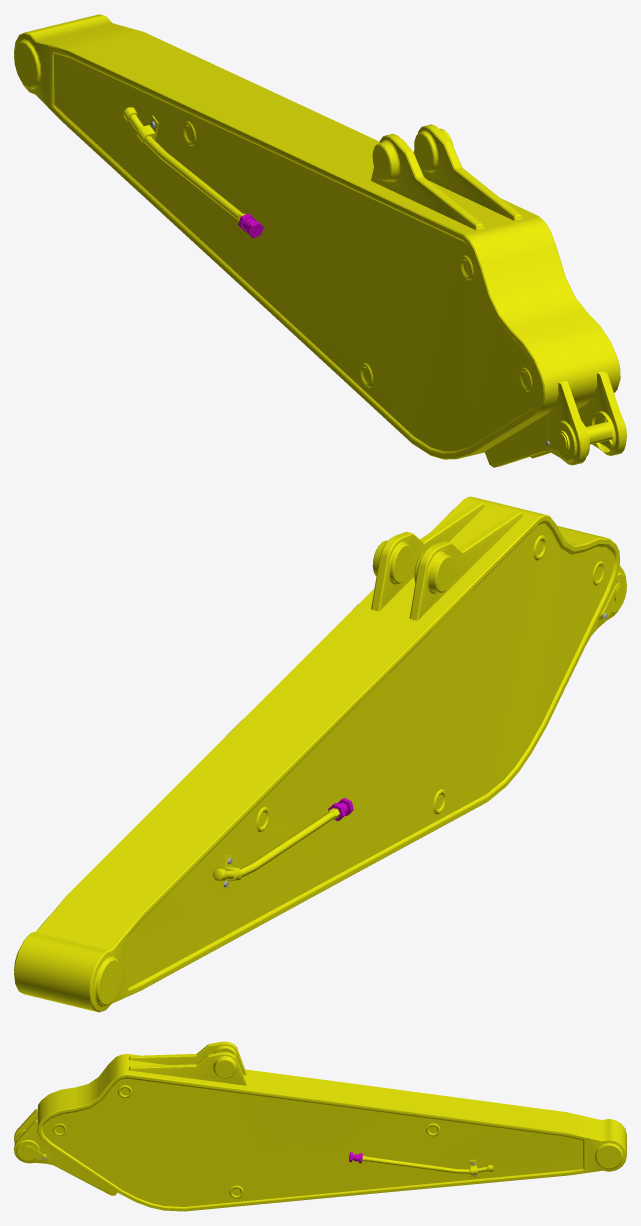
Rendered from ExcavatorMachine_Stick_01a_snaps005.fbx.
3 renders of one model, top to bottom at view 1: azimuth 30°, elevation 25°; view 2: azimuth 150°, elevation 25°; view 3: azimuth 270°, elevation 25°, orthographic. The views are drawn at different scales.
Visible parts, largest first — view 1: ExcavatorMachine_Stick_01a_snaps005; view 2: ExcavatorMachine_Stick_01a_snaps005; view 3: ExcavatorMachine_Stick_01a_snaps005.
Part boxes in pixels (bbox=[...]): ExcavatorMachine_Stick_01a_snaps005: bbox=[14, 14, 626, 467]; ExcavatorMachine_Stick_01a_snaps005: bbox=[14, 496, 626, 1012]; ExcavatorMachine_Stick_01a_snaps005: bbox=[14, 1041, 626, 1211].
Size of the model in its own units: 51.91 by 131 by 473.
